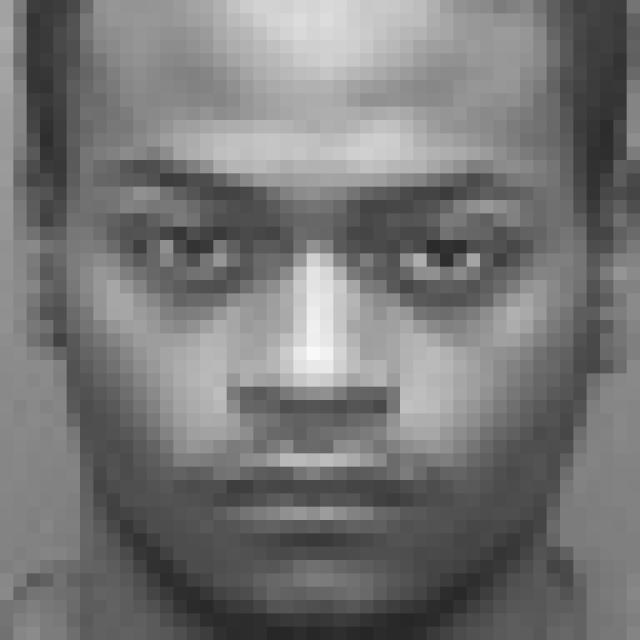neutral: (106, 147, 554, 560)
